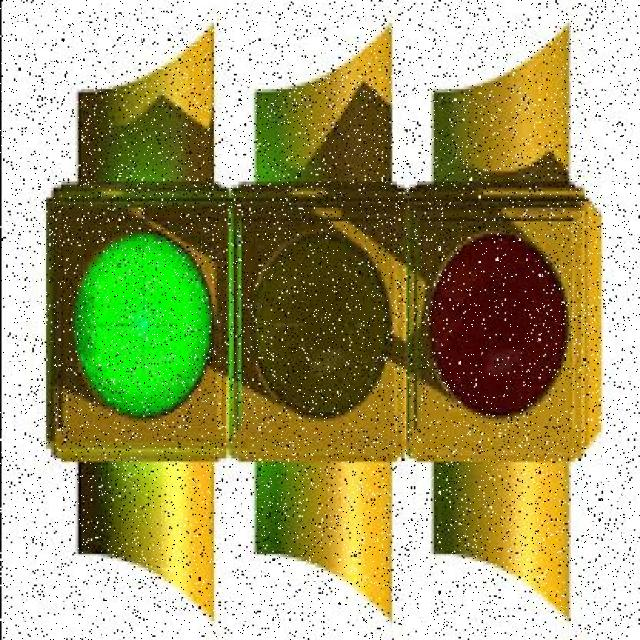green-light: (15, 159, 640, 501)
